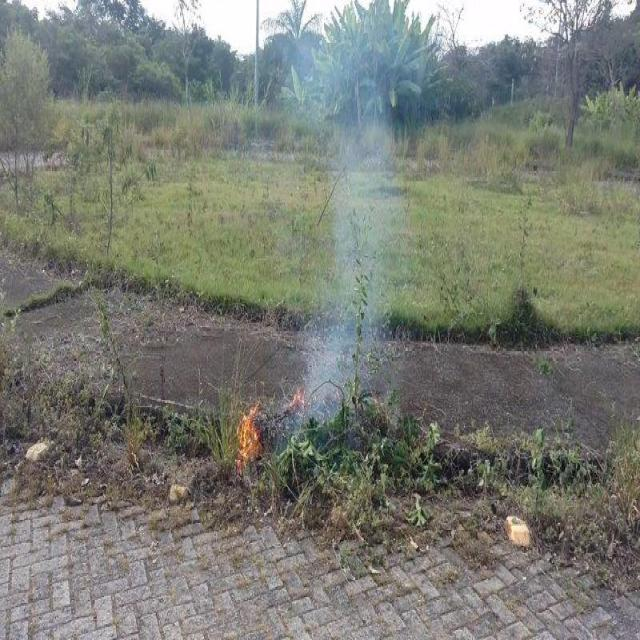Fire: (236, 403, 258, 471)
